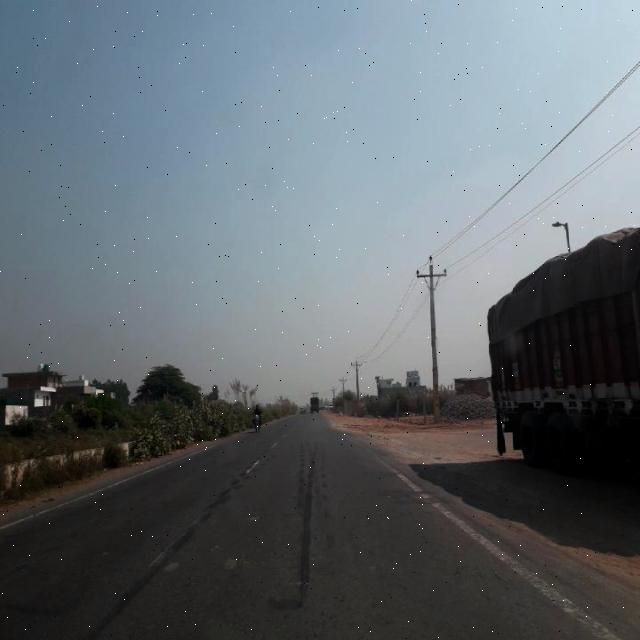D44: (499, 557, 615, 633), (398, 468, 494, 548), (146, 494, 220, 569)
